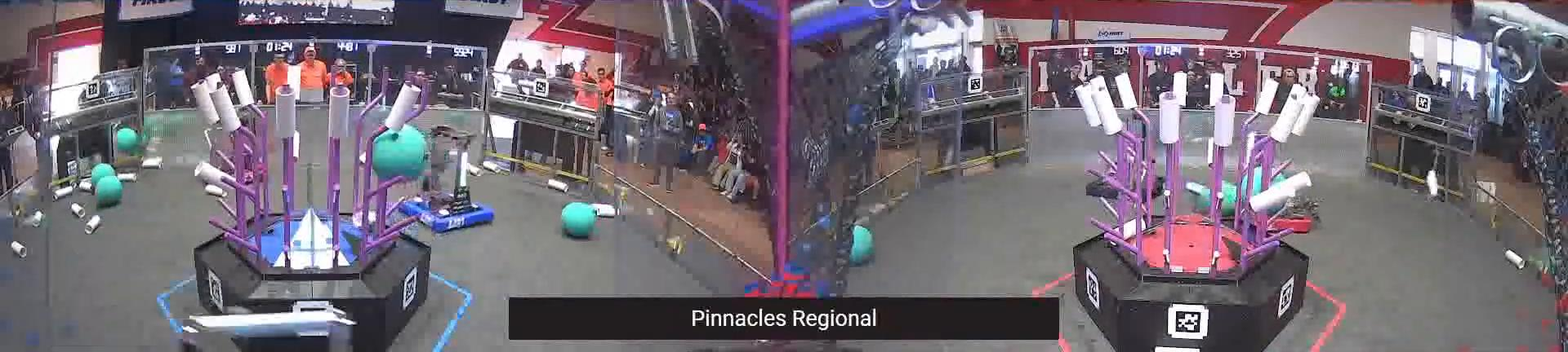reef: (1075, 69, 1318, 352), (193, 65, 432, 348)
robot: (395, 122, 492, 234), (177, 307, 354, 352), (207, 125, 266, 188), (1092, 162, 1169, 207), (1250, 198, 1318, 237)
